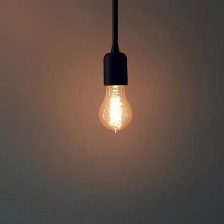light_bulb: (97, 71, 136, 135)
